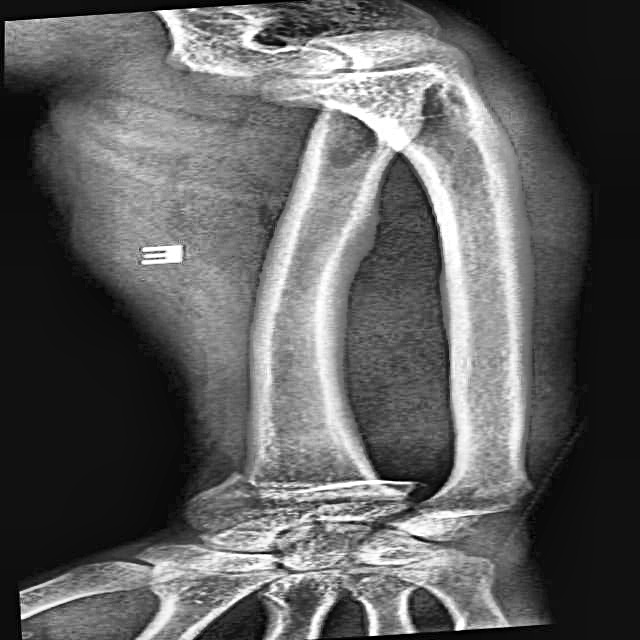Healthy: (195, 122, 583, 453)
